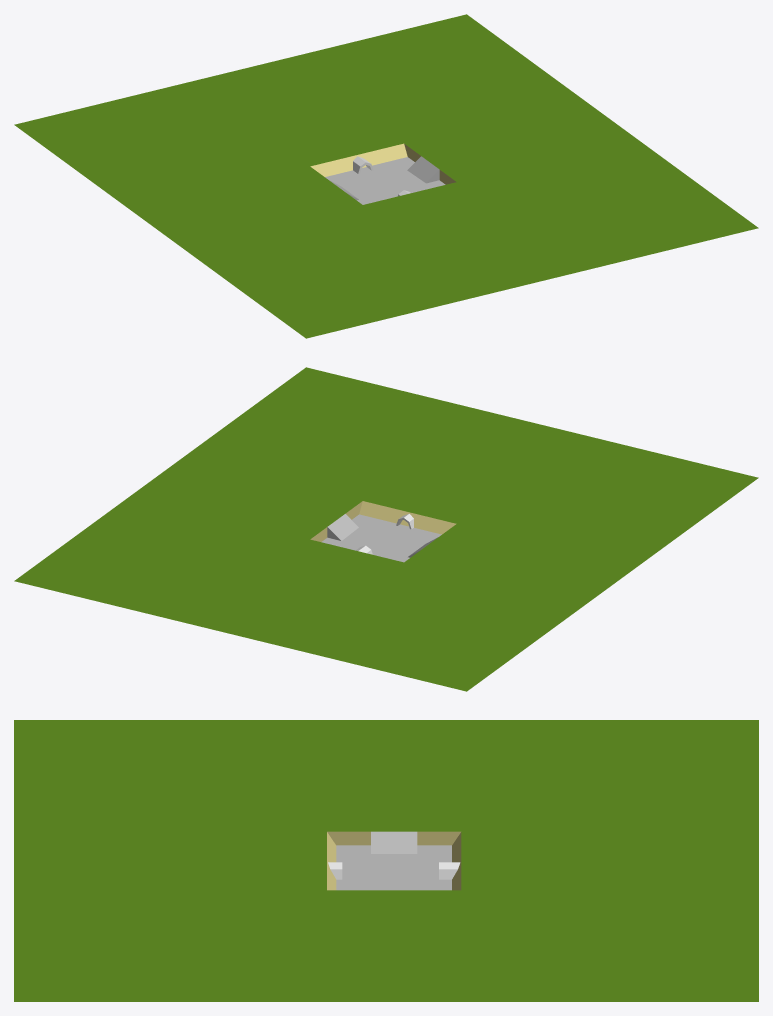
The model's file is map_temp.glb.
3 renders of one model, top to bottom at view 1: azimuth 30°, elevation 25°; view 2: azimuth 150°, elevation 25°; view 3: azimuth 270°, elevation 25°, orthographic. The views are drawn at different scales.
Visible parts, largest first — view 1: Plane; view 2: Plane; view 3: Plane.
Part boxes in pixels (bbox=[...]): Plane: bbox=[14, 14, 758, 338]; Plane: bbox=[14, 367, 758, 691]; Plane: bbox=[14, 720, 758, 1001].
Size of the model in its own units: 193 by 8.37 by 215.
